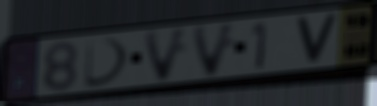1: (249, 19, 269, 72)
8: (41, 39, 81, 93)
D: (82, 35, 133, 90)
V: (188, 20, 241, 80), (140, 25, 193, 85), (293, 12, 342, 66)
